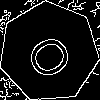O: (24, 26, 83, 83)
